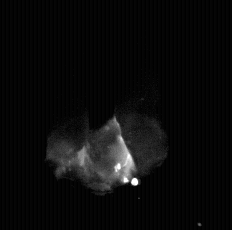arame: (90, 0, 115, 132)
poca: (46, 0, 169, 230)
